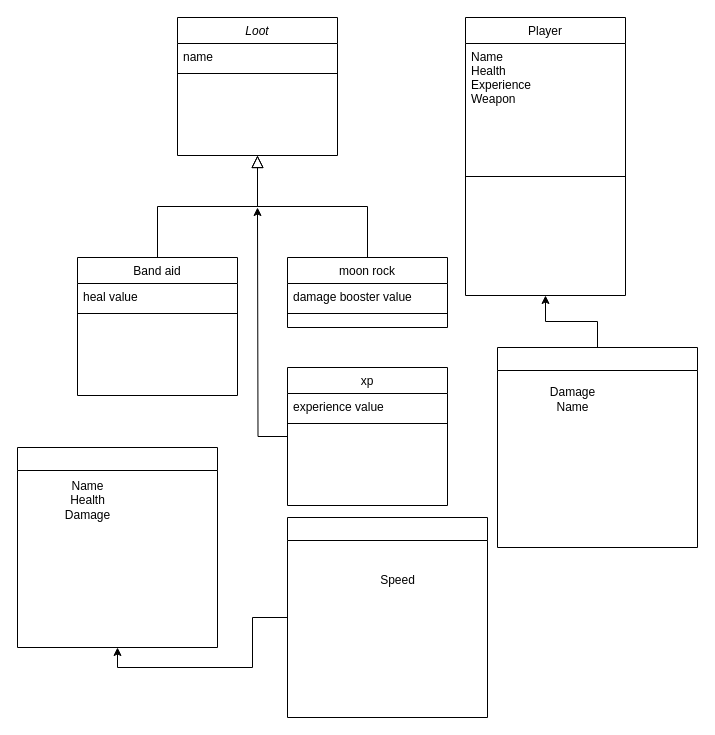
Some shapes in this 715 by 735 pixel diagram are drawn without their labels. Each missing label, with the box of its shape:
Alien: (16, 446, 218, 648)
UFO: (286, 516, 488, 718)
Weapon: (496, 346, 698, 548)
